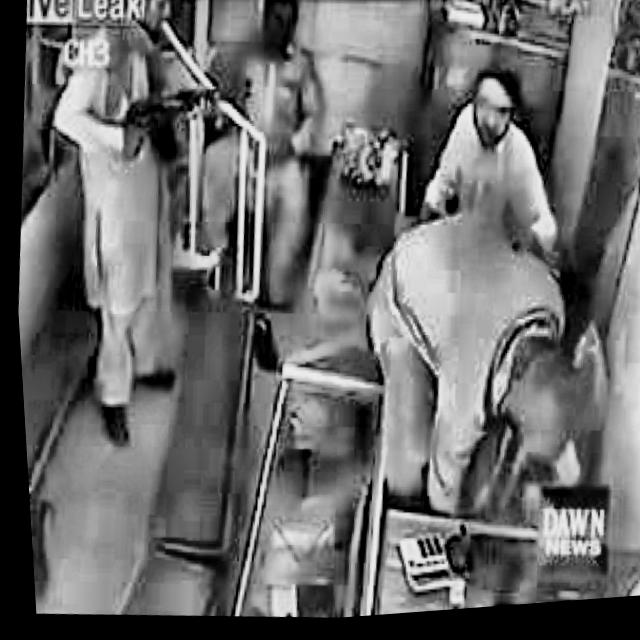robbery: (22, 0, 253, 462), (332, 198, 620, 546)
